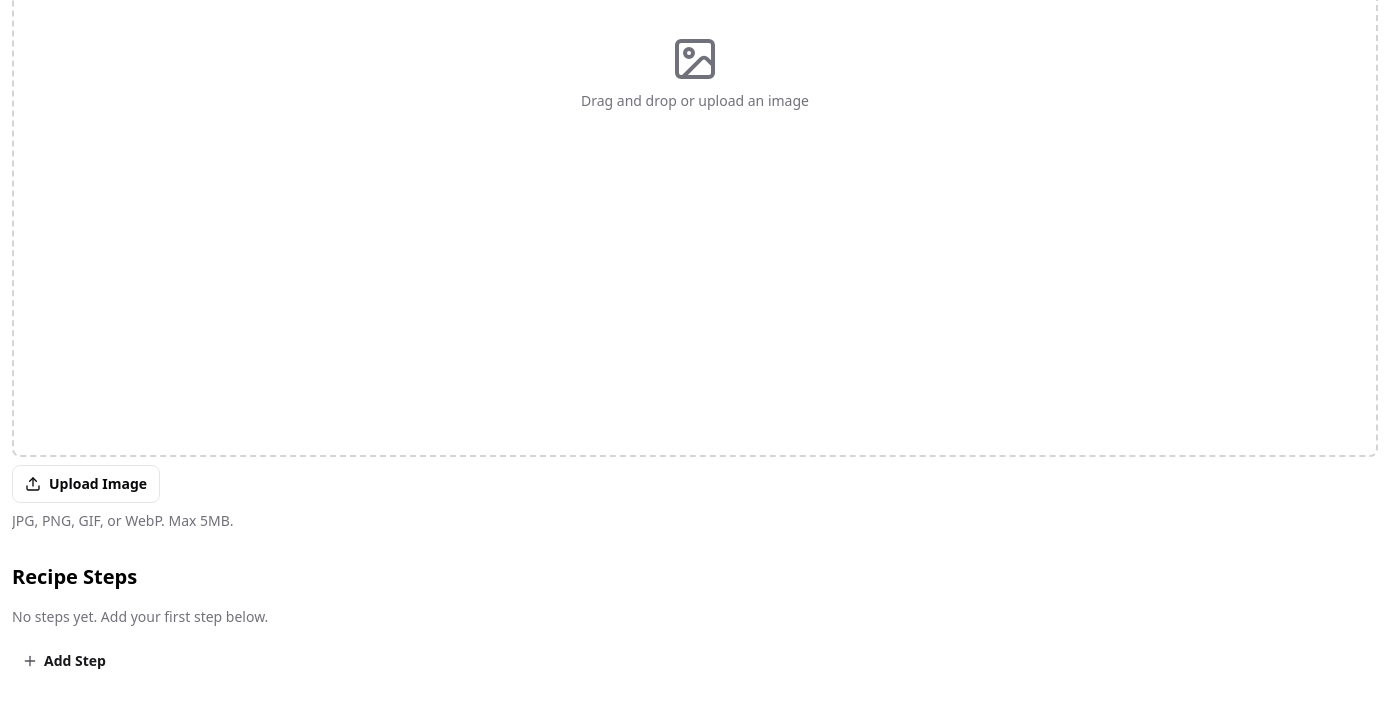
Test: RecipeBuilder › progressive disclosure › hides "Add first step" prompt after adding a step
(page scrolled)
Expected: the text "No steps yet. Add your first step below." is shown, [12,607,268,626]
# Add a step
What coordinates should you click on to do the following:
click the button "Add Step"
I would click on:
 (65, 661)
Its box is [12,643,118,679].
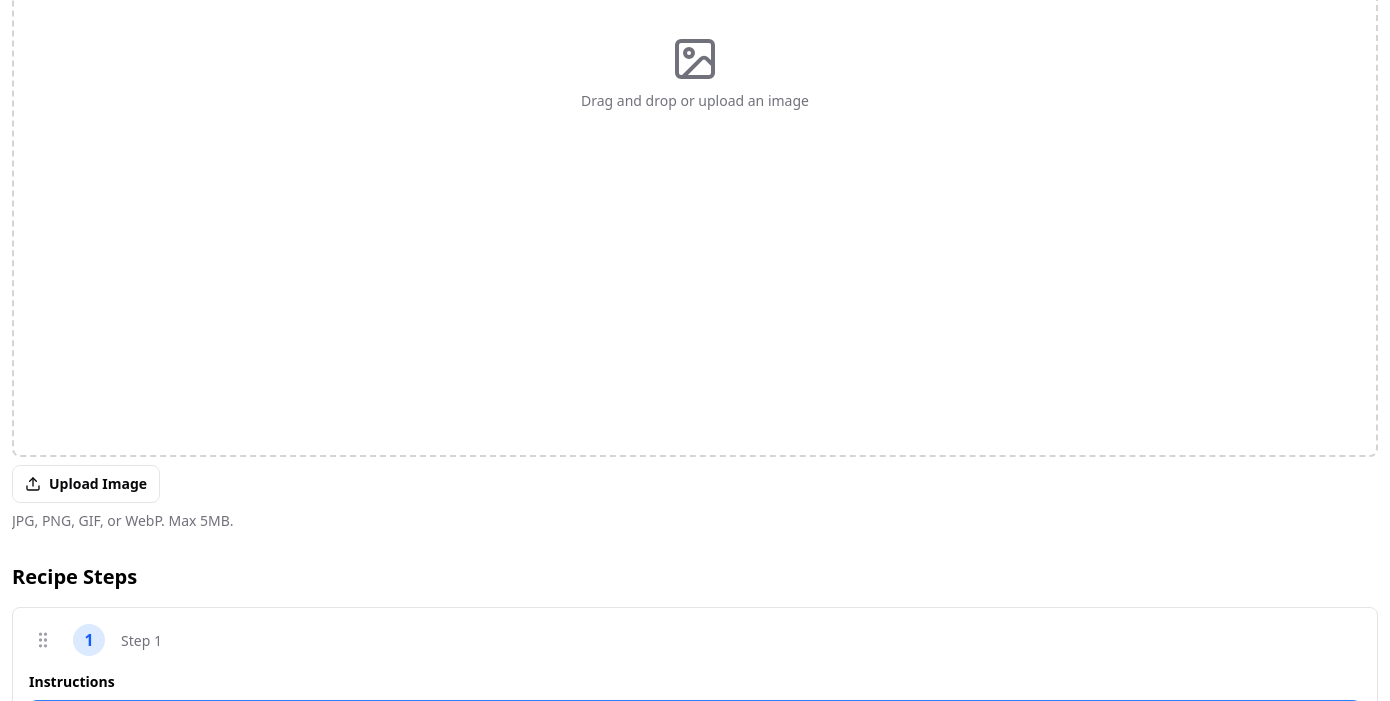
Expected: the text "Add your first step" is gone
